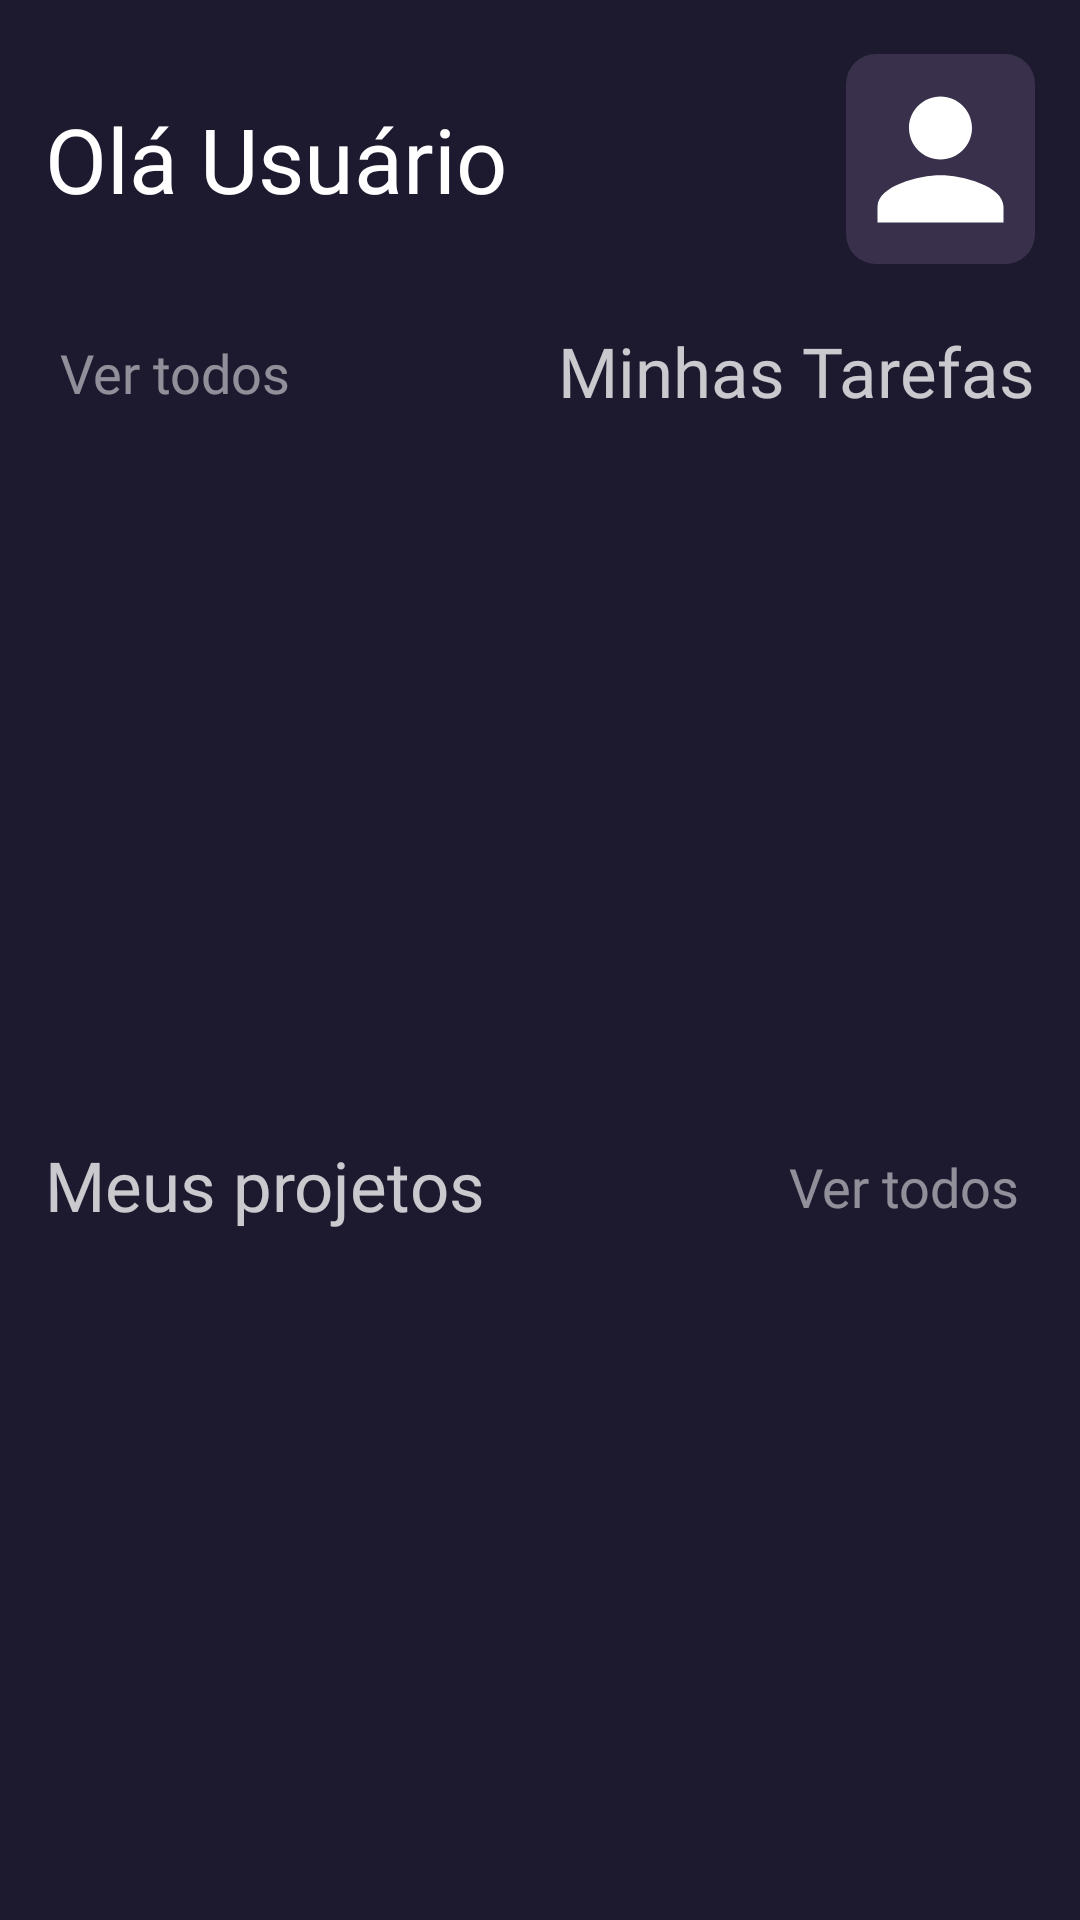

Locate icon controls on the screen. Image size 1080*1920, boxes as (x1, y1, x2, y2).
person: (846, 54, 1035, 264)
